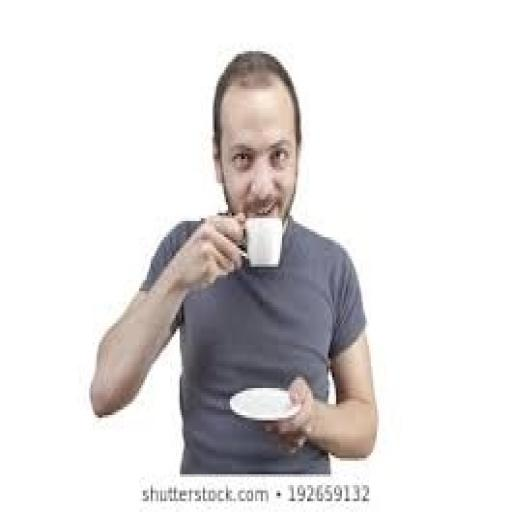drinking: (242, 216, 282, 266)
